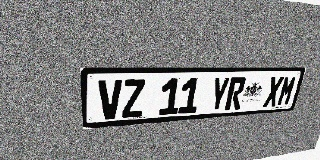1: (159, 78, 182, 115), (178, 78, 201, 114)
M: (276, 76, 298, 106)
R: (224, 77, 247, 110)
V: (98, 79, 122, 120)
X: (263, 76, 284, 107)
Y: (208, 77, 230, 111)
Z: (122, 79, 145, 118)
